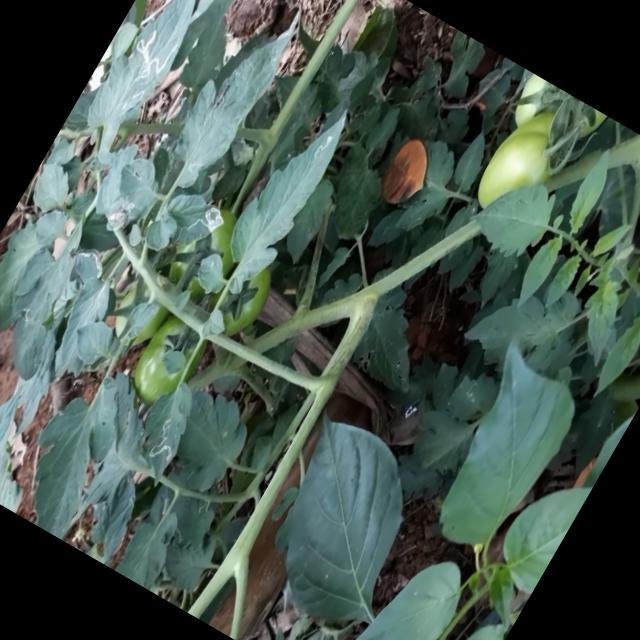Tomato healthy leaf: (462, 162, 565, 270)
Tomato target spot leaf: (204, 89, 358, 306), (78, 0, 210, 148), (117, 373, 210, 490), (150, 183, 231, 266), (66, 243, 110, 289)
